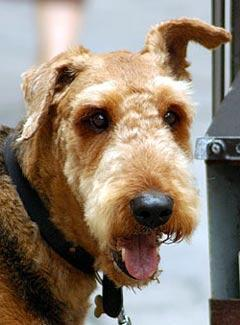wire-haired_fox_terrier: (1, 14, 231, 324)
